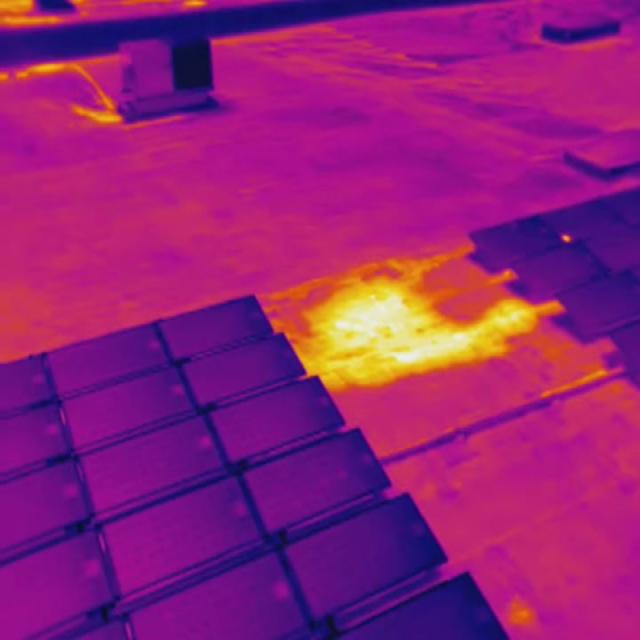Orange-Spots: (562, 232, 572, 245)
